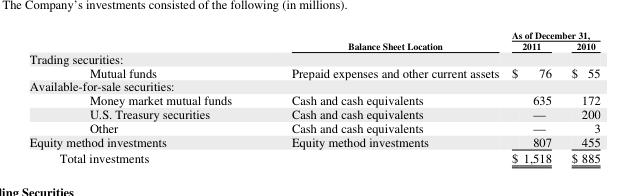table: (28, 28, 599, 164)
table column: (261, 28, 504, 164), (28, 28, 261, 164), (504, 28, 560, 164), (560, 28, 599, 164)
table column header: (28, 28, 599, 51)
table projected row header: (28, 51, 599, 65), (28, 79, 599, 93)
table row: (28, 134, 599, 149), (28, 149, 599, 164), (28, 51, 599, 65), (28, 65, 599, 79), (28, 79, 599, 93), (28, 93, 599, 107), (28, 120, 599, 134), (28, 107, 599, 120), (28, 39, 599, 51), (28, 28, 599, 39)
table spanning cell: (261, 28, 504, 51), (504, 28, 599, 39)
